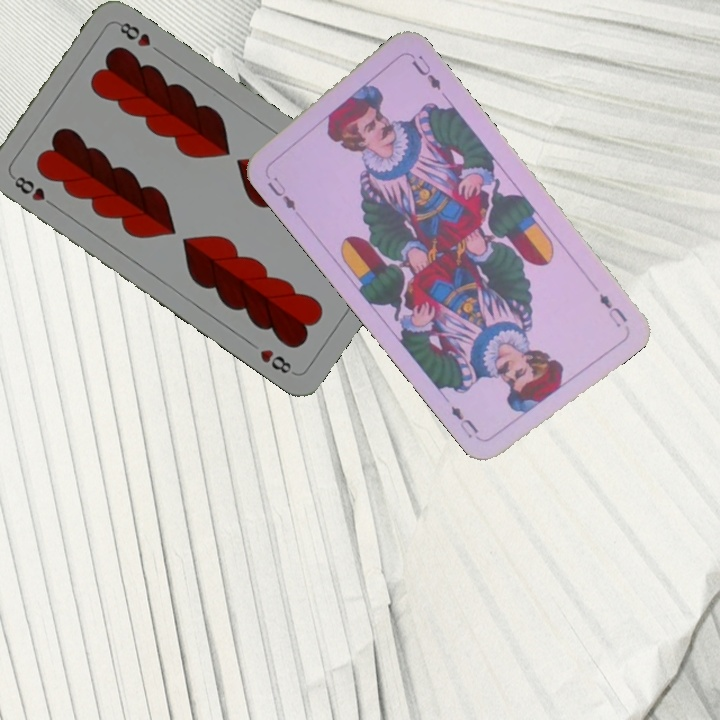EU: (263, 172, 299, 214), (594, 290, 630, 330)
H8: (8, 171, 59, 211)
